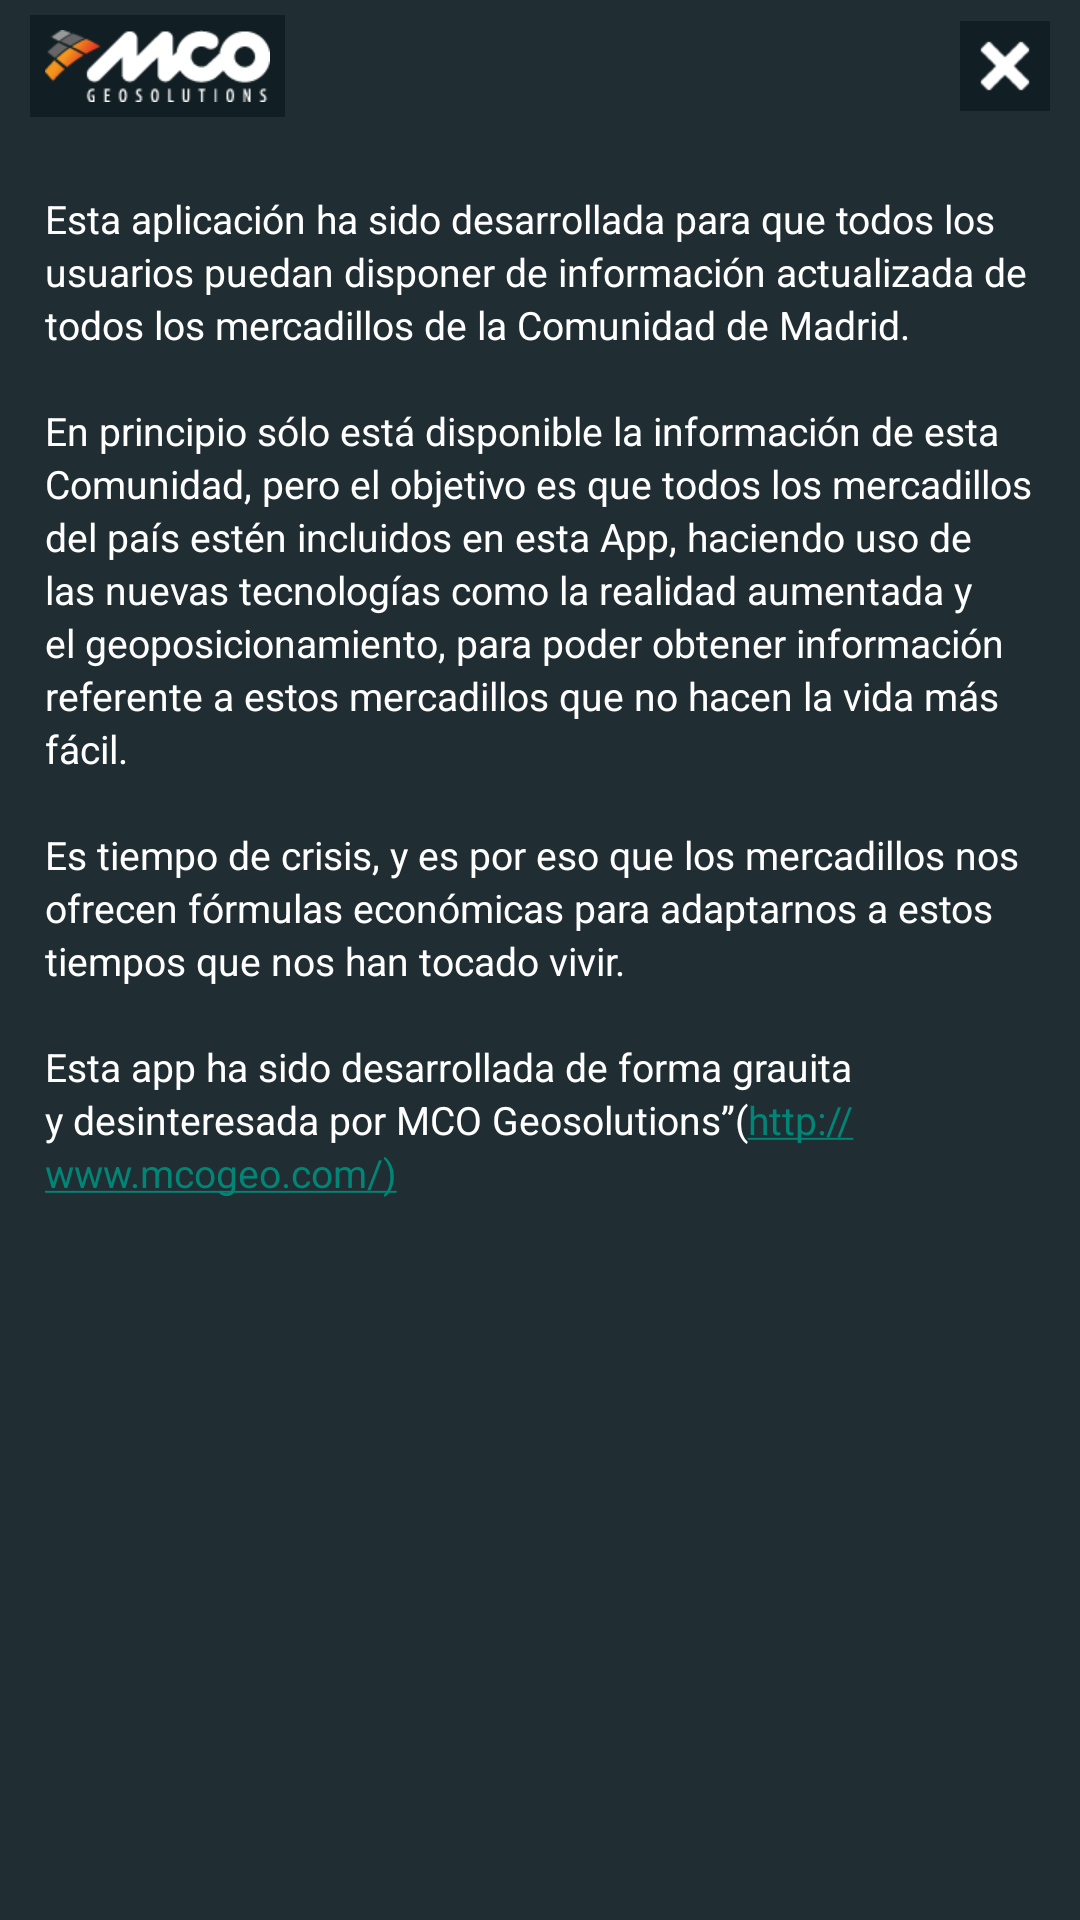

Named icons in this screenshot (1080x1920) and their centers, [x,y]:
cerrar: [1005,66]
